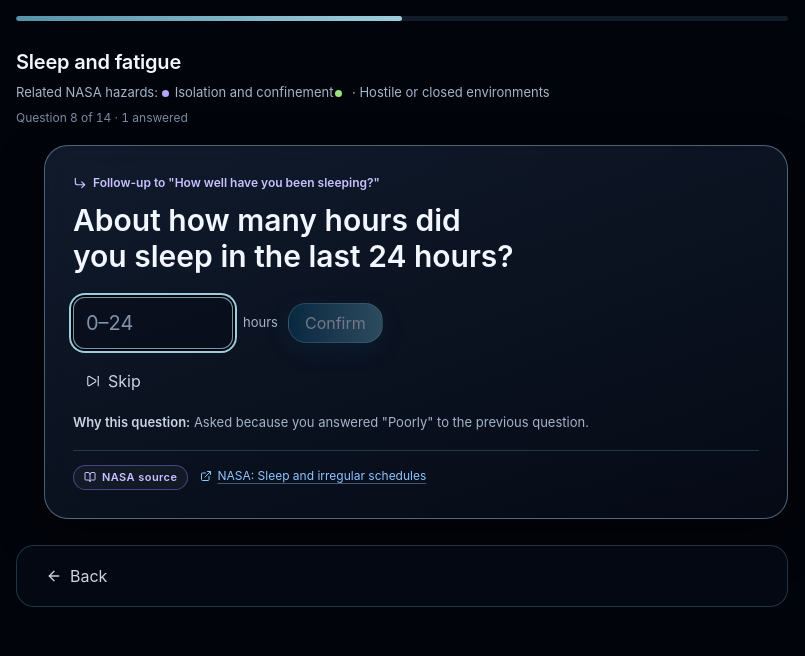
Scenario: QuestionsPage › marks a follow-up and validates a numeric answer
The image size is (805, 656).
Later steps or results of the test are not shown.
Expected: the text "Follow-up to \"How well have you been sleeping?\"" is shown, [73,174,380,190]
Expected: the text "Asked because you answered \"Poorly\" to the previous question" is shown, [194,414,589,430]
Type "30" into the field named "how many hours did you sleep" at x=153, y=323, box [73,297,233,349]
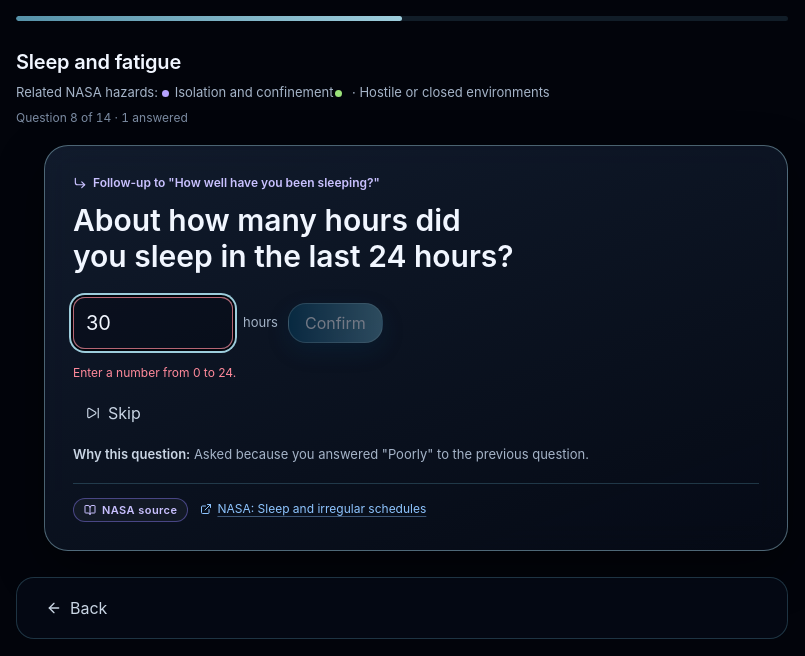
Expected: the button "Confirm" is disabled, [288,303,383,343]
Expected: the text "Enter a number from 0 to 24." is shown, [73,365,236,380]
